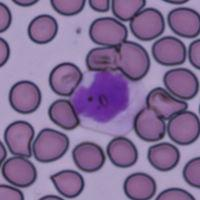M: (69, 69, 143, 136)
